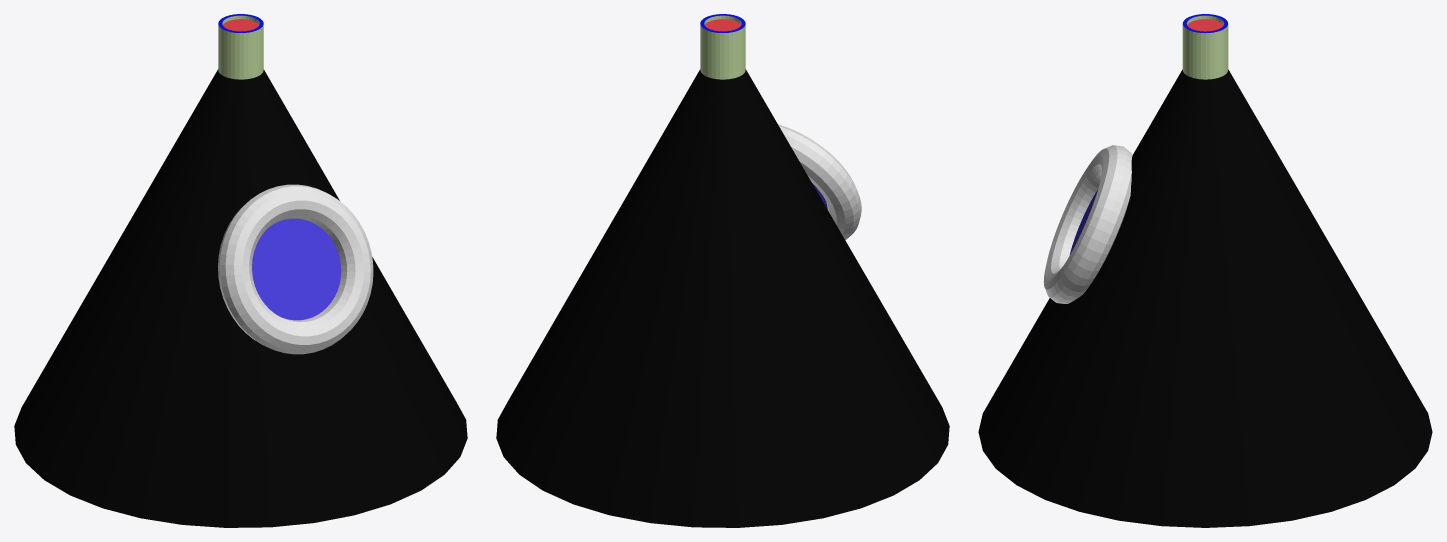
The model's file is rocket.fbx.
The picture shows the model from 3 angles, left to right: view 1: azimuth 30°, elevation 25°; view 2: azimuth 150°, elevation 25°; view 3: azimuth 270°, elevation 25°; orthographic projection.
Visible parts, largest first — view 1: Cone; view 2: Cone; view 3: Cone.
Part boxes in pixels (box(x1,y1,x2,y2)): Cone: box(14, 14, 467, 527); Cone: box(496, 14, 949, 527); Cone: box(978, 14, 1432, 527).
Size of the model in its own units: 200 by 198 by 200.
